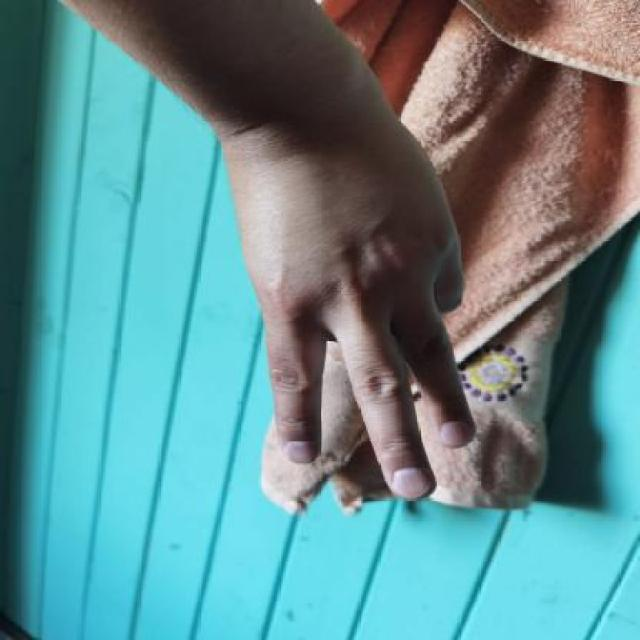M: (176, 107, 504, 518)
